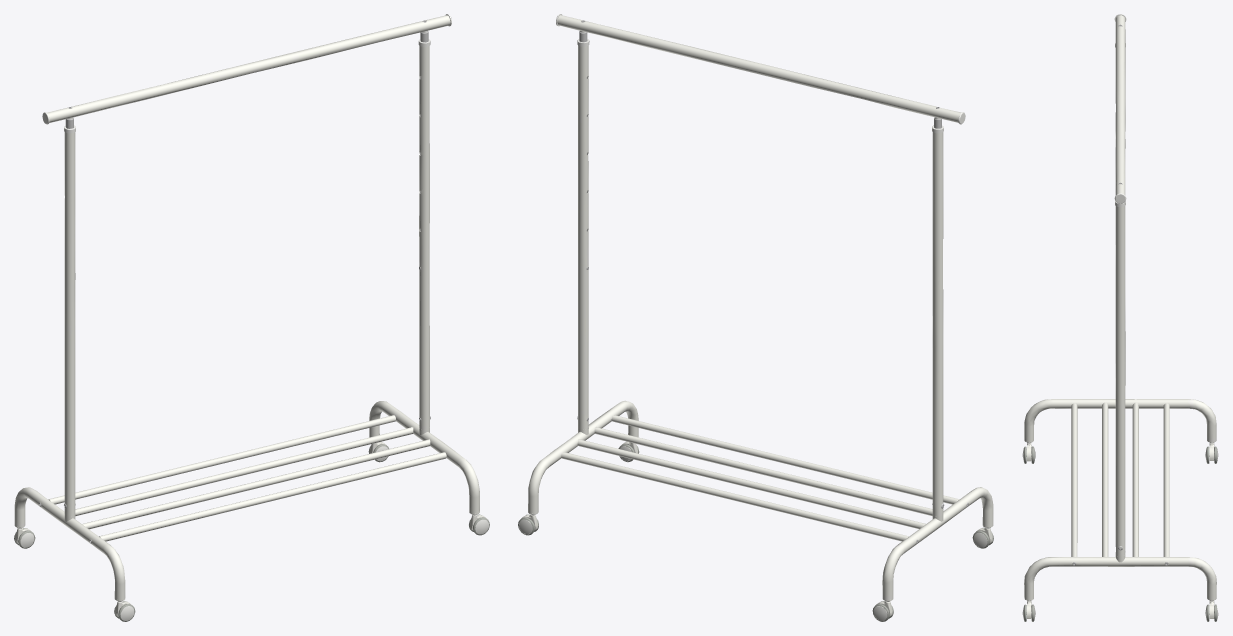
The model's file is rigga_wieszak_na_ubrania_50231630.glb.
3 views of the same model, side by side, from view 1: azimuth 30°, elevation 25°; view 2: azimuth 150°, elevation 25°; view 3: azimuth 270°, elevation 25° (orthographic). The views are drawn at different scales.
Visible parts, largest first — view 1: rigga_wieszak_na_ubrania_50231630; view 2: rigga_wieszak_na_ubrania_50231630; view 3: rigga_wieszak_na_ubrania_50231630.
Part boxes in pixels (x1,y1,x2,y2): rigga_wieszak_na_ubrania_50231630: [14, 14, 489, 621]; rigga_wieszak_na_ubrania_50231630: [518, 14, 993, 621]; rigga_wieszak_na_ubrania_50231630: [1022, 14, 1218, 621].
Bounding box in the file's own units: 1.11 × 1.25 × 0.5097.
Materials: 1 (1 with a texture image).
